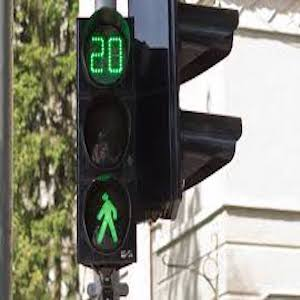green: (91, 188, 120, 248)
